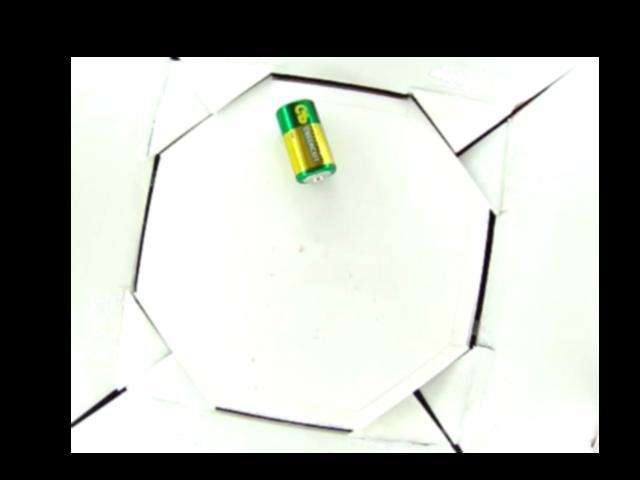Battery: (274, 99, 338, 184)
